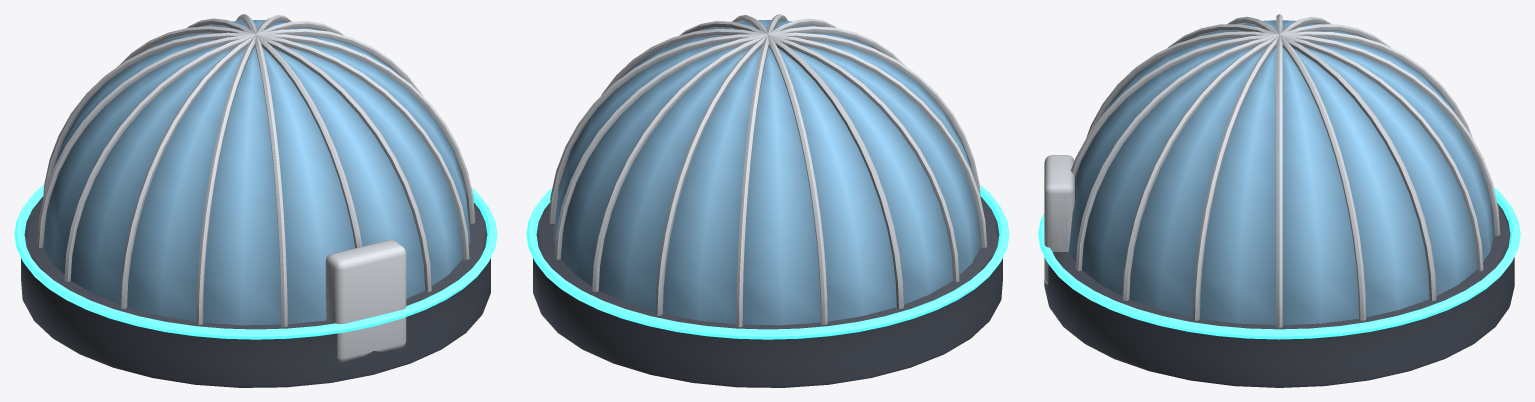
Rendered from sp_dome.glb.
3 renders of one model, left to right at view 1: azimuth 30°, elevation 25°; view 2: azimuth 150°, elevation 25°; view 3: azimuth 270°, elevation 25°, orthographic.
Visible parts, largest first — view 1: sp_dome; view 2: sp_dome; view 3: sp_dome.
Part boxes in pixels (x1=…): sp_dome: x1=14, y1=14, x2=497, y2=387; sp_dome: x1=526, y1=14, x2=1009, y2=387; sp_dome: x1=1038, y1=14, x2=1520, y2=387.
Bounding box in the file's own units: 9.44 × 5.52 × 9.44.
